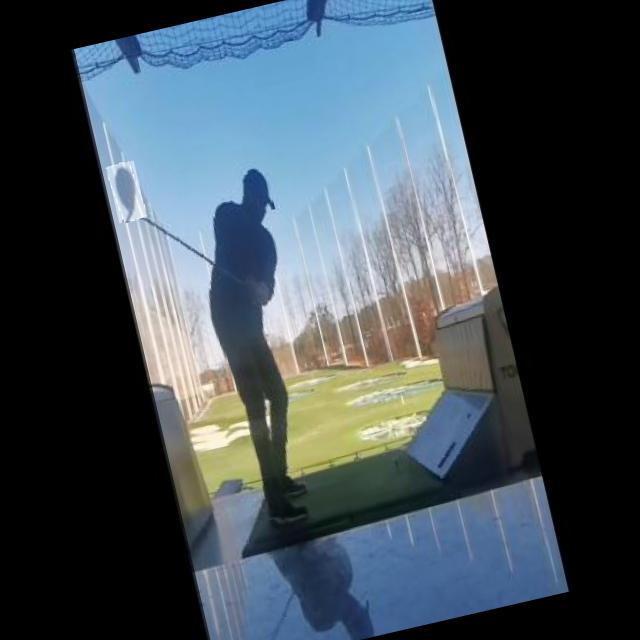club head: (106, 160, 146, 223)
